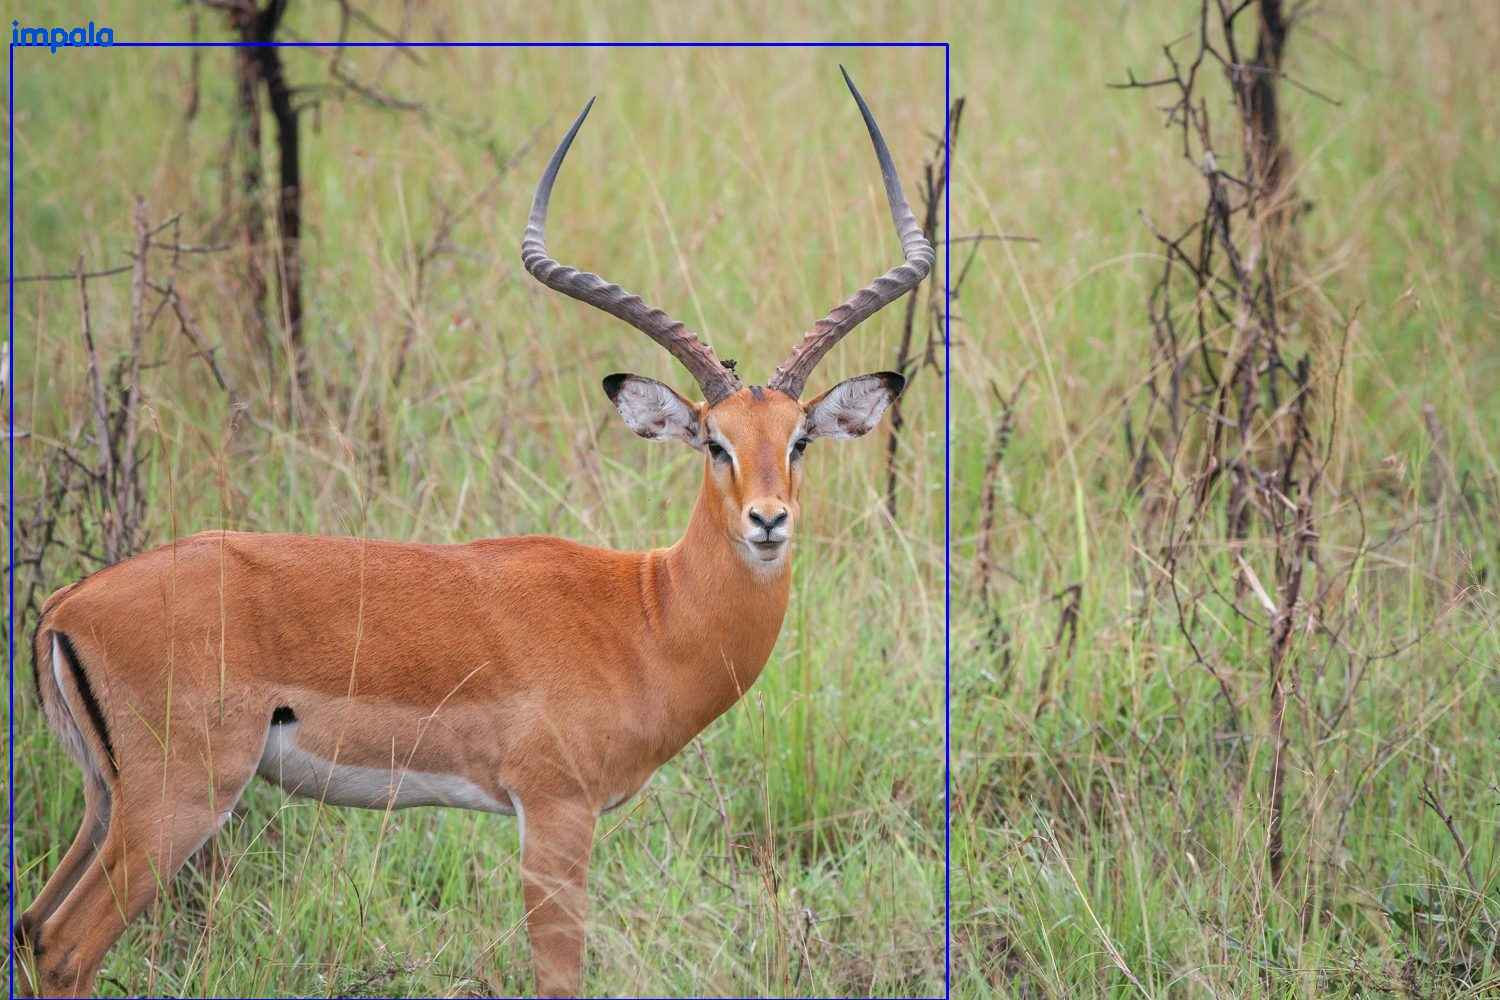impala: (10, 44, 946, 1000)
